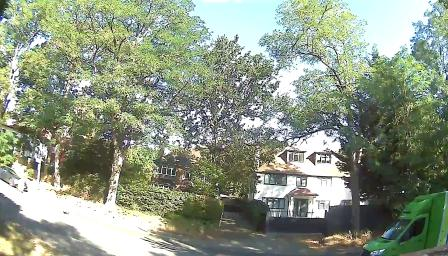Cars: (371, 182, 447, 256)
